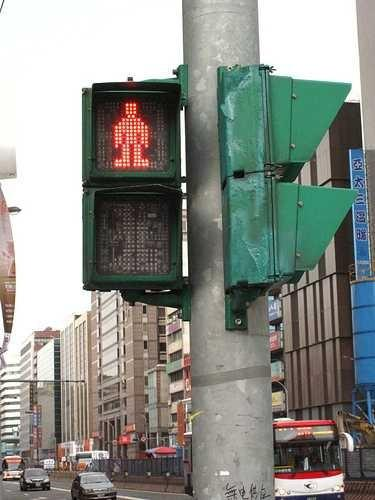red: (88, 82, 184, 284), (89, 85, 181, 181)
